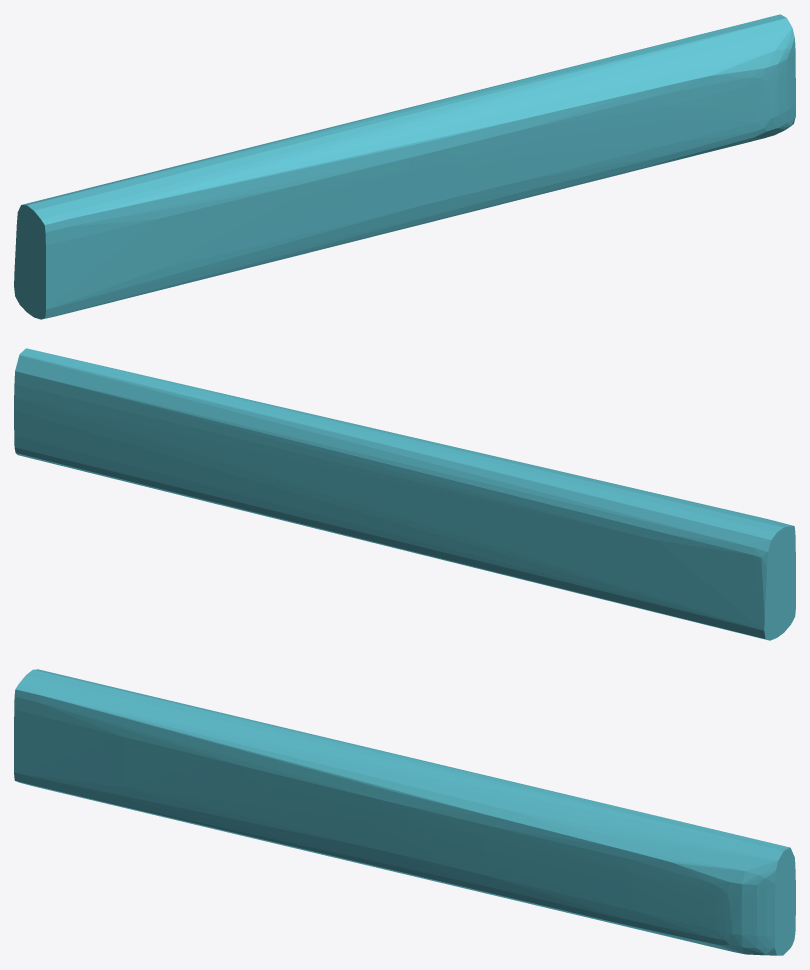
The picture shows the model from 3 angles, top to bottom: view 1: azimuth 30°, elevation 25°; view 2: azimuth 150°, elevation 25°; view 3: azimuth 330°, elevation 25°; orthographic projection.
Bounding box in the file's own units: 0.2172 × 0.0297 × 0.0163.
